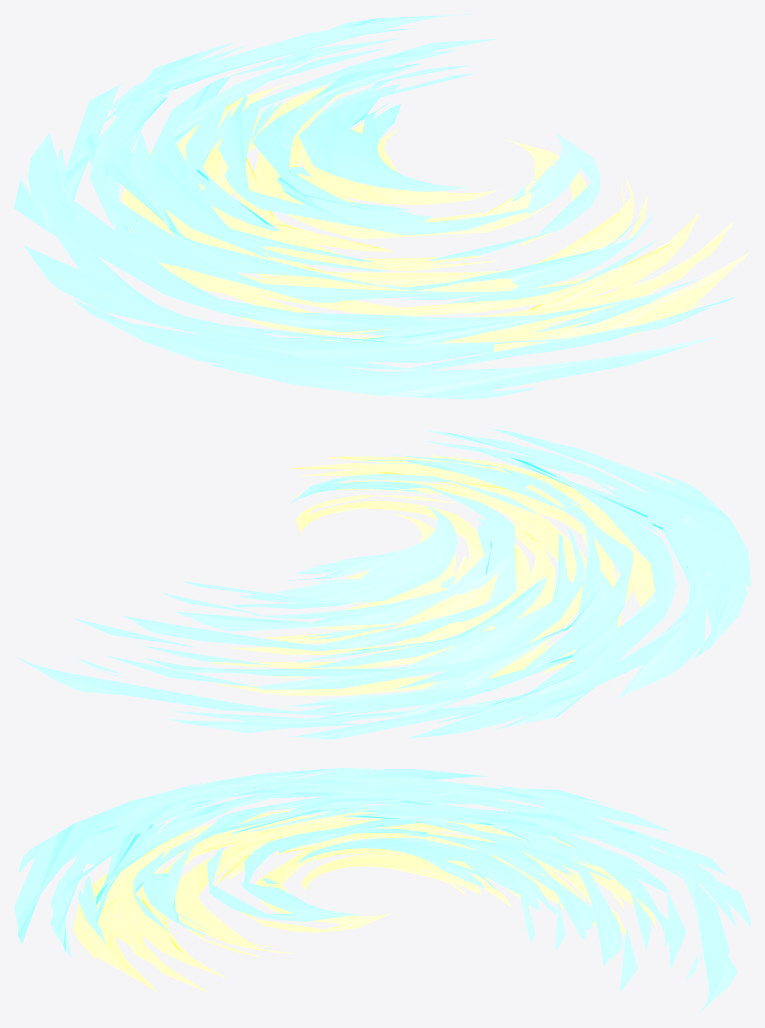
File: vfx.fbx
3 renders of one model, top to bottom at view 1: azimuth 30°, elevation 25°; view 2: azimuth 150°, elevation 25°; view 3: azimuth 270°, elevation 25°, orthographic. The views are drawn at different scales.
Parts seen in each view (by area): view 1: Circle.002; view 2: Circle.002; view 3: Circle.002.
Boxes of the visible parts, bbox=[...] form: Circle.002: bbox=[14, 14, 750, 399]; Circle.002: bbox=[14, 428, 750, 739]; Circle.002: bbox=[14, 768, 750, 1013].
Bounding box in the file's own units: 199 × 18.89 × 252.
